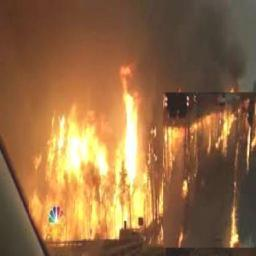Heavy smoke: (3, 1, 239, 75)
Large fire: (28, 62, 255, 245)
